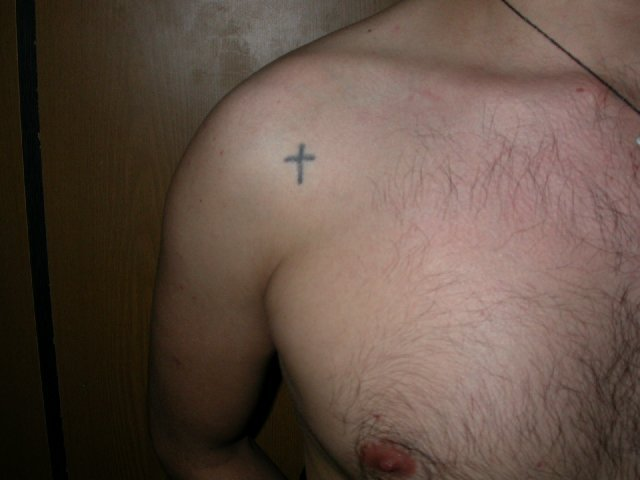tatu9_krest: (282, 132, 320, 190)
